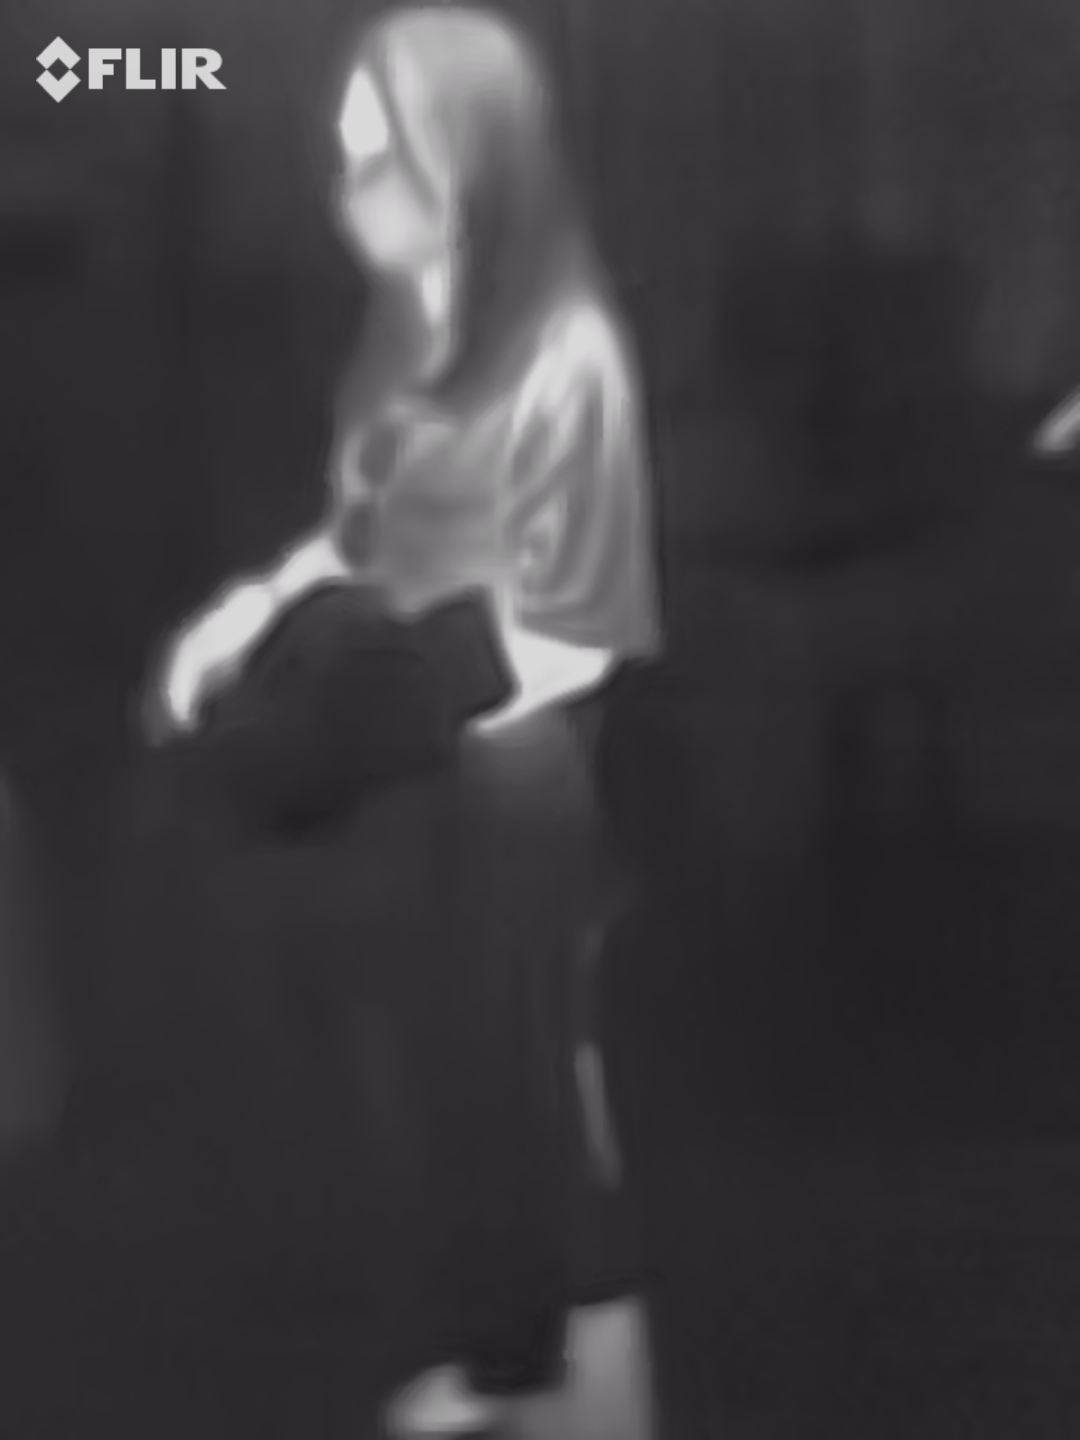head: (319, 19, 557, 269)
